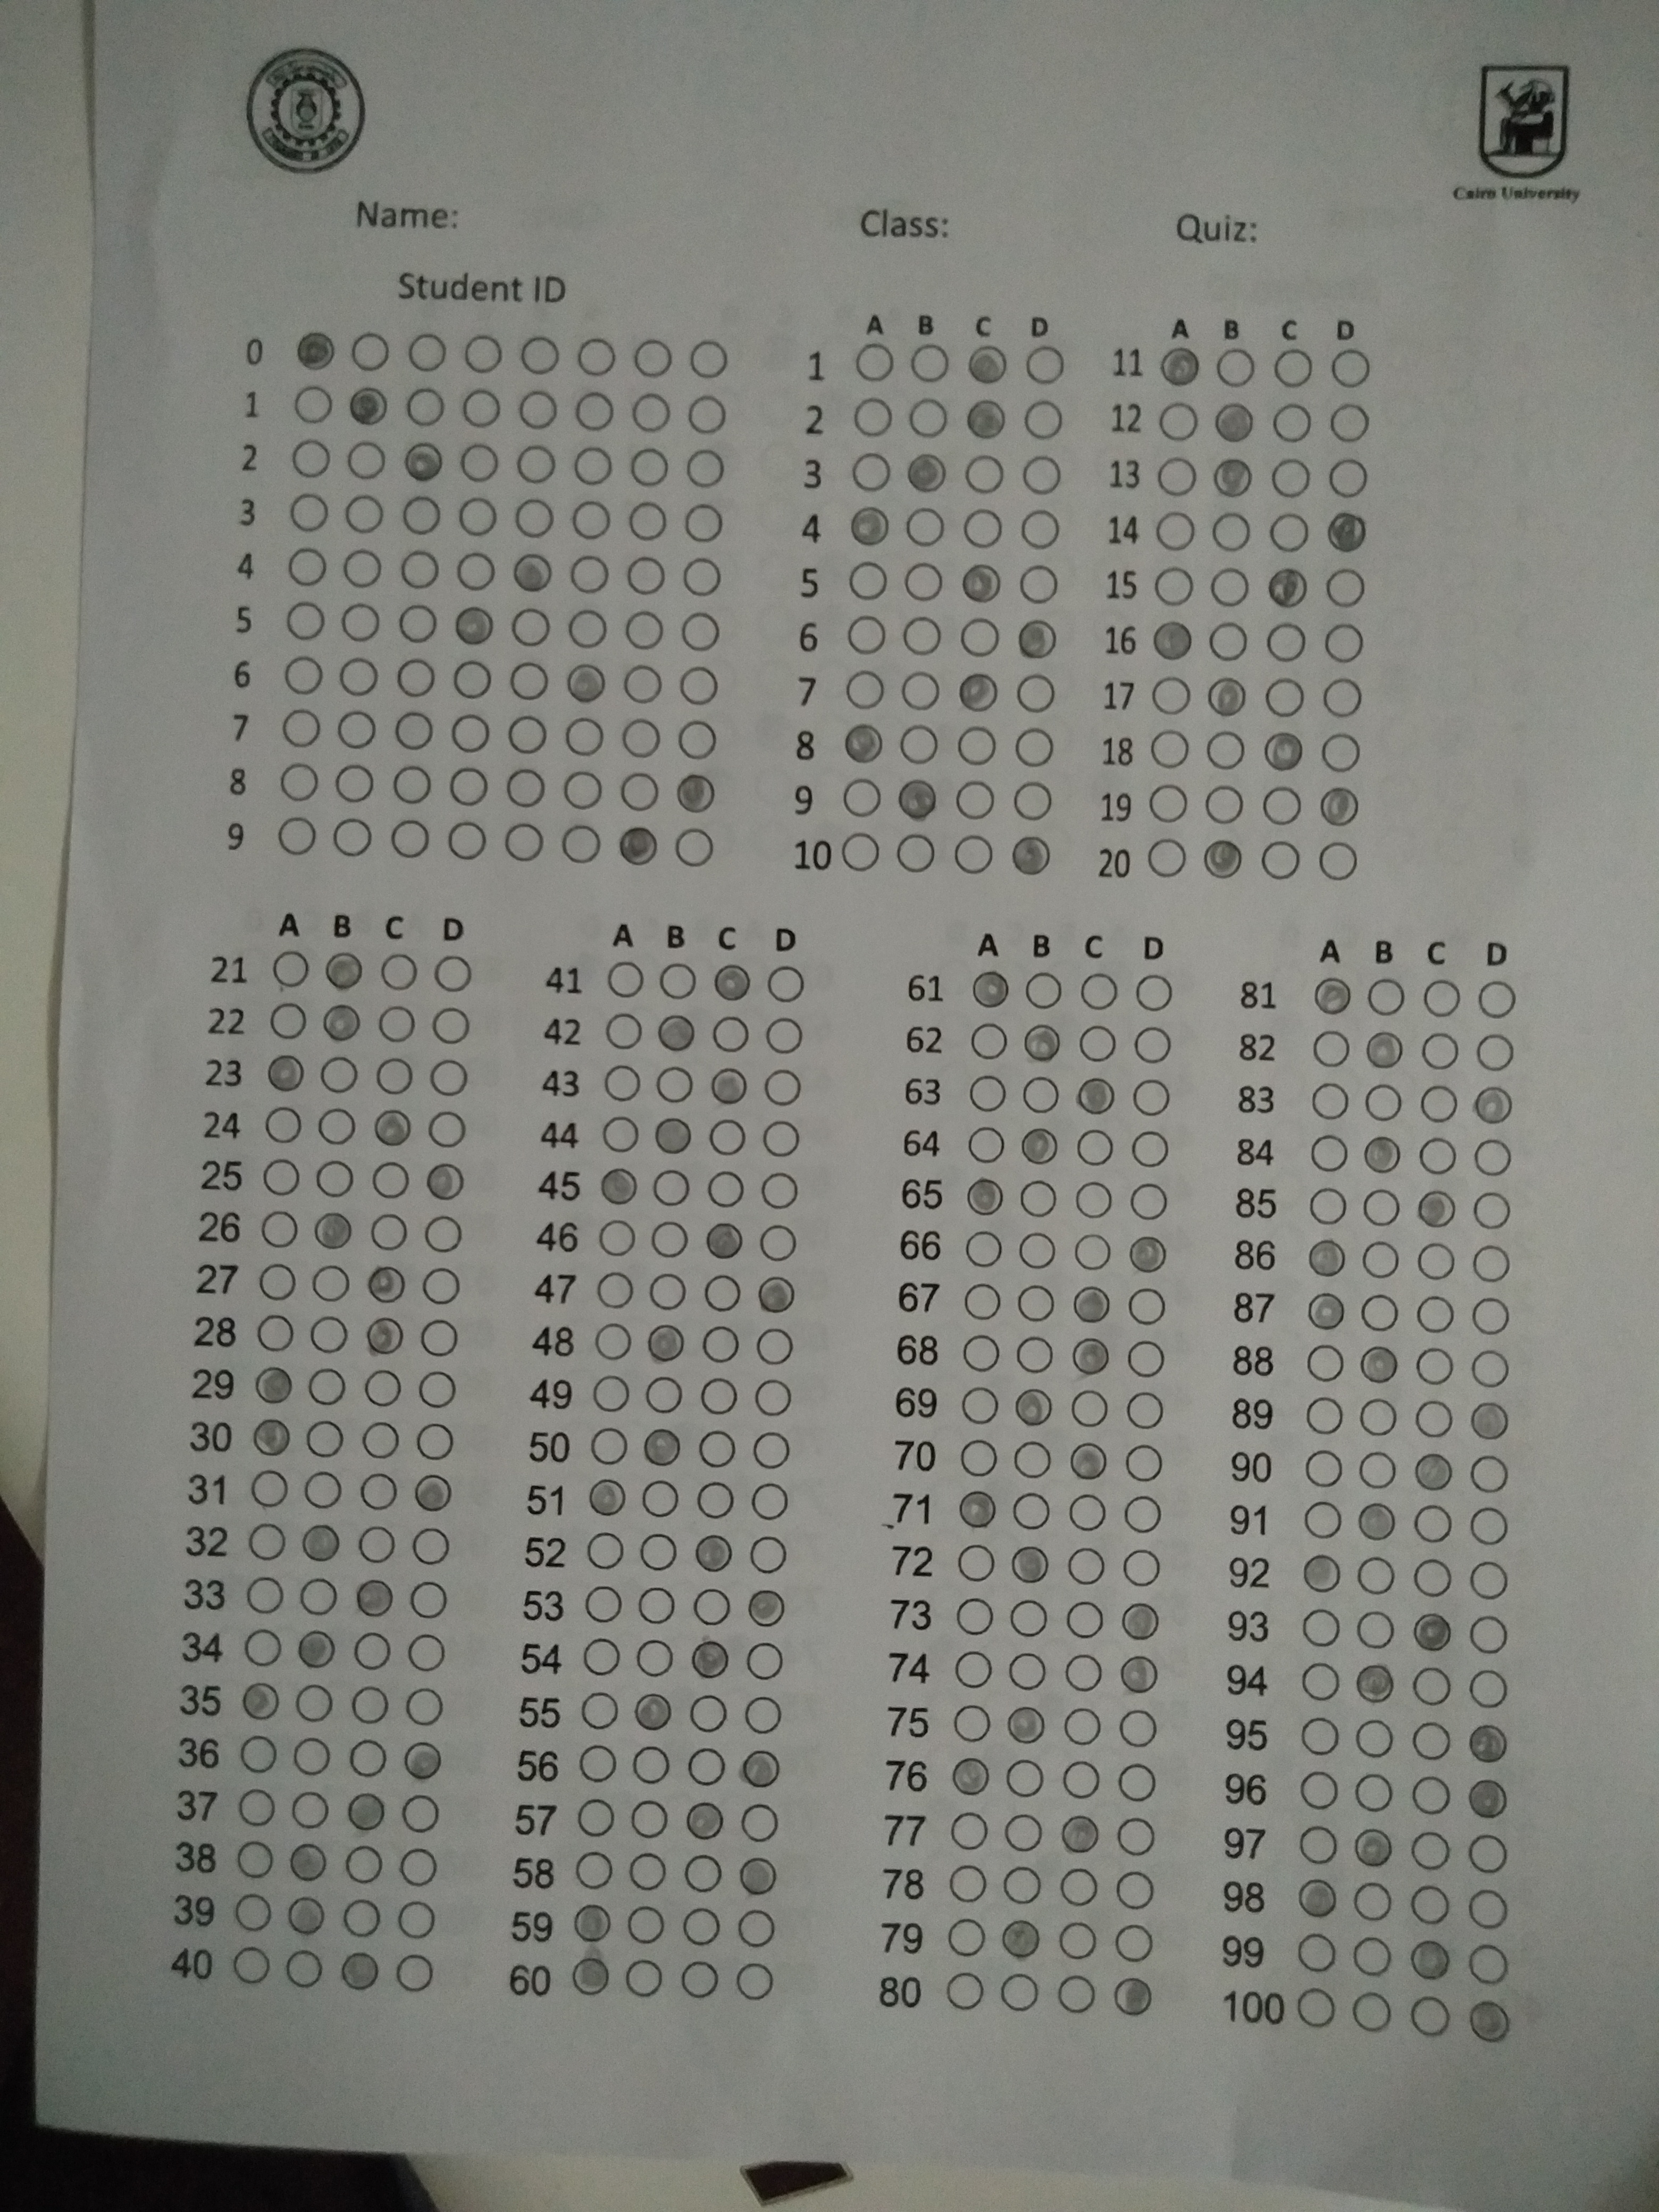not-c: (1349, 1933, 1396, 1979), (455, 441, 502, 484), (683, 395, 730, 439), (685, 336, 732, 380), (842, 667, 889, 711), (950, 833, 997, 876), (892, 831, 939, 874), (960, 505, 1007, 549), (427, 953, 474, 996), (502, 716, 549, 759), (619, 610, 666, 653), (507, 604, 554, 648), (568, 498, 615, 542), (647, 1163, 694, 1207), (704, 1169, 751, 1212), (375, 1001, 422, 1045), (512, 441, 558, 484), (681, 446, 727, 489), (1023, 341, 1068, 385), (514, 388, 559, 432), (289, 383, 335, 427), (403, 329, 448, 373), (896, 723, 941, 766), (838, 777, 884, 820), (838, 829, 884, 873), (1009, 780, 1054, 824), (1011, 726, 1056, 770), (962, 453, 1007, 496), (1019, 453, 1065, 496), (1258, 838, 1303, 881), (1148, 674, 1194, 718), (1260, 678, 1305, 721), (1319, 676, 1364, 719), (1323, 622, 1368, 665), (1206, 620, 1251, 664), (1152, 566, 1197, 610), (1208, 566, 1253, 610), (1209, 510, 1255, 554), (1269, 455, 1314, 498), (1154, 455, 1199, 498), (1328, 401, 1373, 444), (1330, 345, 1375, 388), (1269, 401, 1314, 444), (1155, 399, 1201, 442), (1272, 345, 1317, 388), (444, 765, 490, 808), (965, 1071, 1011, 1115), (559, 770, 605, 813), (389, 761, 434, 805), (331, 761, 376, 805), (559, 716, 605, 759), (450, 714, 495, 758), (394, 599, 439, 643), (277, 705, 322, 749), (394, 657, 439, 700), (336, 599, 382, 643), (669, 826, 714, 869), (674, 718, 720, 761), (619, 716, 664, 759), (676, 610, 721, 653), (624, 554, 669, 597), (624, 498, 669, 542), (451, 549, 497, 592), (284, 545, 329, 589), (758, 1169, 803, 1212), (758, 1116, 803, 1160), (1073, 1021, 1119, 1064), (1019, 970, 1065, 1014), (762, 1014, 807, 1057), (650, 1062, 695, 1106), (598, 1061, 643, 1104), (653, 960, 699, 1003), (603, 956, 648, 1000), (366, 1158, 411, 1202), (261, 1103, 307, 1146), (317, 1054, 362, 1097), (429, 1005, 474, 1049), (267, 948, 312, 991), (845, 559, 892, 601), (396, 496, 443, 538), (340, 493, 387, 535), (286, 491, 333, 533), (908, 343, 955, 385), (852, 341, 899, 383), (627, 392, 674, 434), (568, 390, 615, 432), (951, 779, 999, 820), (901, 561, 948, 603), (502, 820, 549, 862), (277, 761, 324, 803), (615, 770, 662, 812), (340, 547, 387, 589), (1018, 1073, 1065, 1115), (312, 1106, 359, 1148), (265, 1001, 312, 1043), (1260, 784, 1303, 827), (511, 498, 556, 540), (451, 496, 497, 538), (288, 439, 333, 481), (342, 439, 387, 481), (570, 446, 615, 488), (626, 446, 671, 488), (850, 451, 896, 493), (850, 397, 896, 439), (904, 397, 950, 439), (1019, 399, 1065, 441), (455, 388, 500, 430), (401, 387, 446, 428), (629, 338, 674, 380), (573, 336, 619, 378), (516, 334, 561, 376), (460, 331, 505, 373), (349, 333, 394, 374), (843, 615, 889, 657), (897, 617, 943, 658), (899, 669, 945, 711), (951, 726, 997, 768), (1012, 672, 1058, 714), (957, 617, 1002, 658), (1014, 564, 1060, 606), (1018, 509, 1063, 550), (1147, 782, 1192, 824), (1202, 784, 1248, 826), (1147, 838, 1192, 880), (1316, 840, 1361, 881), (1317, 732, 1363, 773), (1202, 730, 1248, 772), (1145, 728, 1190, 770), (1265, 622, 1310, 664), (1321, 570, 1366, 611), (1267, 512, 1312, 554), (1154, 510, 1199, 552), (1326, 458, 1371, 500), (1213, 345, 1258, 387), (681, 503, 727, 545), (443, 820, 488, 862), (903, 507, 948, 549), (387, 817, 432, 859), (504, 768, 549, 810), (329, 819, 375, 860), (275, 815, 321, 857), (559, 824, 605, 866), (390, 711, 436, 752), (333, 709, 378, 751), (281, 655, 326, 697), (335, 657, 380, 698), (451, 658, 497, 700), (505, 660, 551, 702), (281, 599, 326, 641), (678, 665, 723, 707), (620, 664, 666, 705), (565, 606, 610, 648), (680, 556, 725, 597), (566, 552, 612, 594), (394, 549, 439, 590), (756, 1223, 802, 1264), (706, 1116, 751, 1158), (596, 1111, 641, 1153), (760, 1068, 805, 1109), (1127, 1076, 1173, 1118), (1129, 1024, 1175, 1066), (1131, 974, 1176, 1015), (965, 1021, 1011, 1062), (1077, 970, 1122, 1012), (708, 1012, 753, 1054), (599, 1010, 645, 1052), (763, 963, 809, 1005), (312, 1157, 357, 1198), (260, 1157, 305, 1198), (423, 1109, 469, 1151), (425, 1057, 471, 1099), (371, 1055, 416, 1097), (376, 951, 422, 993), (247, 1468, 293, 1510), (279, 1947, 324, 1989), (392, 1952, 437, 1994), (392, 1898, 437, 1940), (355, 1472, 399, 1514), (301, 1420, 345, 1461), (359, 1420, 403, 1461), (411, 1421, 455, 1463), (415, 1369, 458, 1411), (305, 1366, 349, 1407), (418, 1317, 462, 1359), (307, 1313, 350, 1355), (253, 1312, 296, 1353), (746, 1479, 789, 1521), (694, 1479, 737, 1521), (638, 1477, 681, 1519), (749, 1430, 793, 1472), (695, 1428, 739, 1470), (587, 1425, 631, 1467), (751, 1378, 795, 1420), (697, 1376, 741, 1418), (643, 1374, 687, 1416), (751, 1327, 795, 1369), (592, 1320, 636, 1362), (699, 1271, 742, 1313), (645, 1270, 688, 1312), (594, 1268, 638, 1310), (648, 1219, 692, 1261), (594, 1216, 638, 1258), (418, 1264, 462, 1306), (307, 1263, 350, 1305), (256, 1261, 300, 1303), (364, 1212, 408, 1254), (629, 1745, 673, 1787), (627, 1799, 671, 1841), (681, 1853, 725, 1895), (624, 1851, 667, 1893), (572, 1850, 615, 1892), (626, 1904, 669, 1946), (676, 1959, 720, 2001), (622, 1958, 666, 2000), (680, 1907, 723, 1949), (732, 1959, 775, 2001), (737, 1803, 781, 1844), (683, 1747, 727, 1789), (577, 1689, 620, 1731), (687, 1693, 730, 1735), (742, 1641, 786, 1683), (633, 1637, 676, 1679), (580, 1635, 624, 1677), (688, 1585, 732, 1627), (634, 1583, 678, 1625), (580, 1583, 624, 1625), (636, 1531, 680, 1573), (582, 1529, 626, 1571), (230, 1946, 274, 1987), (232, 1892, 275, 1933), (232, 1839, 275, 1881), (342, 1844, 385, 1886), (235, 1787, 279, 1829), (286, 1789, 329, 1831), (399, 1794, 443, 1836), (345, 1738, 389, 1780), (289, 1735, 333, 1777), (235, 1733, 279, 1775), (401, 1686, 444, 1728), (293, 1683, 336, 1724), (240, 1627, 284, 1669), (350, 1630, 394, 1672), (404, 1632, 448, 1674), (406, 1580, 450, 1622), (242, 1573, 286, 1615), (244, 1521, 288, 1562), (410, 1526, 453, 1568), (355, 1524, 399, 1566), (575, 1743, 619, 1785), (1466, 1832, 1509, 1874), (1410, 1829, 1453, 1871), (1351, 1881, 1394, 1923), (1295, 1932, 1338, 1973), (1352, 1994, 1396, 2036), (1295, 1987, 1338, 2029), (1408, 1996, 1452, 2038), (997, 1972, 1040, 2013), (1054, 1919, 1098, 1961), (1114, 1869, 1157, 1911), (1056, 1865, 1100, 1907), (1000, 1864, 1044, 1905), (1004, 1757, 1047, 1799), (1115, 1707, 1159, 1749), (951, 1648, 995, 1689), (946, 1864, 990, 1905), (1016, 1231, 1060, 1273), (964, 1230, 1007, 1271), (960, 1280, 1004, 1322), (1124, 1287, 1168, 1329), (1415, 1399, 1459, 1440), (1356, 1397, 1399, 1439), (1302, 1395, 1345, 1437), (1124, 1338, 1168, 1379), (1466, 1294, 1509, 1336), (1361, 1292, 1405, 1334), (1412, 1346, 1455, 1388), (1305, 1343, 1349, 1385), (1305, 1184, 1349, 1226), (958, 1383, 1002, 1425), (1009, 1440, 1053, 1482), (1066, 1386, 1110, 1428), (1121, 1444, 1164, 1486), (1121, 1494, 1164, 1536), (1065, 1491, 1108, 1533), (1467, 1456, 1511, 1498), (1354, 1555, 1398, 1597), (1467, 1561, 1511, 1602), (1467, 1615, 1511, 1656), (1352, 1608, 1396, 1649), (1298, 1660, 1342, 1702), (1464, 1669, 1507, 1710), (1412, 1667, 1455, 1709), (1352, 1717, 1396, 1759), (1065, 1547, 1108, 1588), (1009, 1491, 1053, 1533), (1007, 1597, 1051, 1639), (953, 1595, 997, 1637), (1307, 1132, 1351, 1174), (1361, 1186, 1405, 1228), (1471, 1137, 1514, 1179), (1417, 1134, 1460, 1176), (1417, 1082, 1460, 1123), (1419, 1031, 1462, 1073), (1474, 979, 1518, 1021), (1070, 1230, 1114, 1271), (1072, 1181, 1115, 1223), (1129, 1129, 1173, 1170), (1014, 1179, 1058, 1221), (1297, 1824, 1338, 1865), (1298, 1770, 1340, 1811), (1356, 1773, 1398, 1815), (1467, 1888, 1509, 1930), (1115, 1817, 1157, 1858), (1000, 1813, 1042, 1855), (1115, 1761, 1157, 1803), (1061, 1707, 1103, 1749), (948, 1810, 990, 1851), (945, 1970, 986, 2012), (1302, 1449, 1344, 1491), (1124, 1390, 1166, 1432), (1012, 1284, 1054, 1325), (1413, 1294, 1455, 1336), (1121, 1547, 1162, 1588), (1467, 1505, 1509, 1547), (1413, 1555, 1455, 1597), (1302, 1608, 1344, 1649), (1298, 1716, 1340, 1757), (1061, 1599, 1103, 1641), (955, 1541, 997, 1583), (1073, 1129, 1115, 1170), (964, 1122, 1006, 1163), (1473, 1188, 1514, 1230), (1471, 1031, 1513, 1073), (1309, 1080, 1351, 1122), (1127, 1181, 1169, 1223), (575, 1797, 619, 1838), (300, 1470, 343, 1510), (361, 1369, 404, 1409), (697, 1324, 741, 1364), (589, 1374, 633, 1414), (420, 1214, 464, 1254), (258, 1209, 301, 1249), (735, 1909, 779, 1949), (741, 1695, 784, 1735), (744, 1533, 788, 1573), (340, 1897, 383, 1937), (396, 1846, 439, 1886), (347, 1684, 390, 1724), (295, 1576, 338, 1616), (1300, 1500, 1344, 1540), (1412, 1777, 1455, 1817), (1410, 1885, 1453, 1925), (1467, 1944, 1511, 1984), (1061, 1653, 1105, 1693), (1004, 1651, 1047, 1691), (950, 1703, 993, 1743), (945, 1916, 988, 1956), (1354, 1451, 1398, 1491), (1011, 1336, 1054, 1376), (960, 1334, 1004, 1374), (1467, 1348, 1511, 1388), (1415, 1242, 1459, 1282), (1359, 1242, 1403, 1282), (958, 1439, 1002, 1479), (1412, 1505, 1455, 1545), (1410, 1723, 1453, 1763), (1359, 1082, 1403, 1122), (1419, 977, 1462, 1017), (1309, 1028, 1352, 1068), (1054, 1975, 1096, 2015), (1114, 1923, 1155, 1963), (1060, 1759, 1101, 1799), (1469, 1245, 1511, 1285), (1366, 977, 1408, 1017)
taken-c: (563, 660, 608, 704), (403, 439, 446, 484), (343, 385, 389, 428), (840, 723, 885, 766), (1014, 617, 1060, 660), (957, 561, 1002, 604), (847, 503, 892, 547), (1317, 786, 1363, 829), (1324, 510, 1370, 554), (1209, 456, 1255, 500), (1213, 401, 1258, 444), (1157, 343, 1202, 387), (1412, 1451, 1457, 1494), (1467, 1399, 1513, 1442), (1068, 1334, 1114, 1378), (962, 1177, 1007, 1221), (641, 1320, 687, 1364), (756, 1273, 802, 1317), (596, 1163, 641, 1207), (648, 1115, 694, 1158), (709, 960, 755, 1003), (1356, 1341, 1401, 1385), (1307, 1235, 1351, 1280), (1359, 1132, 1405, 1176), (1363, 1028, 1408, 1071), (1310, 975, 1356, 1019), (1072, 1075, 1117, 1118), (638, 1426, 683, 1470), (349, 1575, 394, 1618), (237, 1681, 282, 1724), (342, 1791, 387, 1834), (566, 1956, 612, 2000), (735, 1853, 781, 1897), (737, 1745, 782, 1789), (631, 1689, 676, 1733), (1108, 1975, 1154, 2019), (997, 1918, 1042, 1961), (1115, 1651, 1161, 1695), (1406, 1939, 1452, 1982), (1466, 1721, 1511, 1764), (1352, 1662, 1398, 1705), (261, 1050, 307, 1094), (322, 948, 368, 991), (362, 1261, 408, 1305), (361, 1313, 406, 1357), (251, 1362, 296, 1406), (249, 1414, 295, 1458), (298, 1521, 343, 1564), (293, 329, 336, 373), (965, 397, 1009, 441), (967, 343, 1011, 387), (617, 824, 660, 867), (673, 772, 716, 815), (453, 604, 497, 648), (512, 552, 556, 596), (969, 968, 1012, 1012), (1009, 834, 1053, 878), (894, 779, 938, 822), (958, 671, 1002, 714), (1201, 838, 1244, 881), (1262, 730, 1305, 773), (1204, 674, 1248, 718), (1152, 620, 1195, 664), (1267, 566, 1310, 610), (904, 449, 948, 493), (1014, 1385, 1058, 1428), (1070, 1284, 1114, 1327), (1126, 1233, 1169, 1277), (702, 1219, 746, 1263), (708, 1064, 751, 1108), (653, 1012, 697, 1055), (1309, 1289, 1352, 1332), (1417, 1186, 1460, 1230), (1471, 1083, 1514, 1127), (1019, 1123, 1063, 1167), (1021, 1021, 1065, 1064), (958, 1489, 1002, 1533), (1412, 1609, 1455, 1653), (1300, 1550, 1344, 1594), (1356, 1501, 1399, 1545), (1065, 1440, 1108, 1484), (584, 1477, 627, 1521), (295, 1627, 338, 1670), (399, 1740, 443, 1784), (286, 1841, 329, 1885), (286, 1893, 329, 1937), (340, 1949, 383, 1993), (570, 1902, 613, 1946), (687, 1796, 730, 1839), (687, 1639, 730, 1683), (746, 1587, 789, 1630), (692, 1531, 735, 1575), (1060, 1813, 1103, 1857), (948, 1756, 992, 1799), (1004, 1703, 1047, 1747), (1117, 1601, 1161, 1644), (1466, 2000, 1509, 2043), (1297, 1876, 1340, 1919), (1352, 1825, 1396, 1869), (1466, 1778, 1509, 1822), (1009, 1543, 1053, 1587), (319, 1000, 362, 1043), (371, 1106, 415, 1150), (423, 1160, 467, 1204), (310, 1209, 354, 1252), (411, 1472, 455, 1515)
